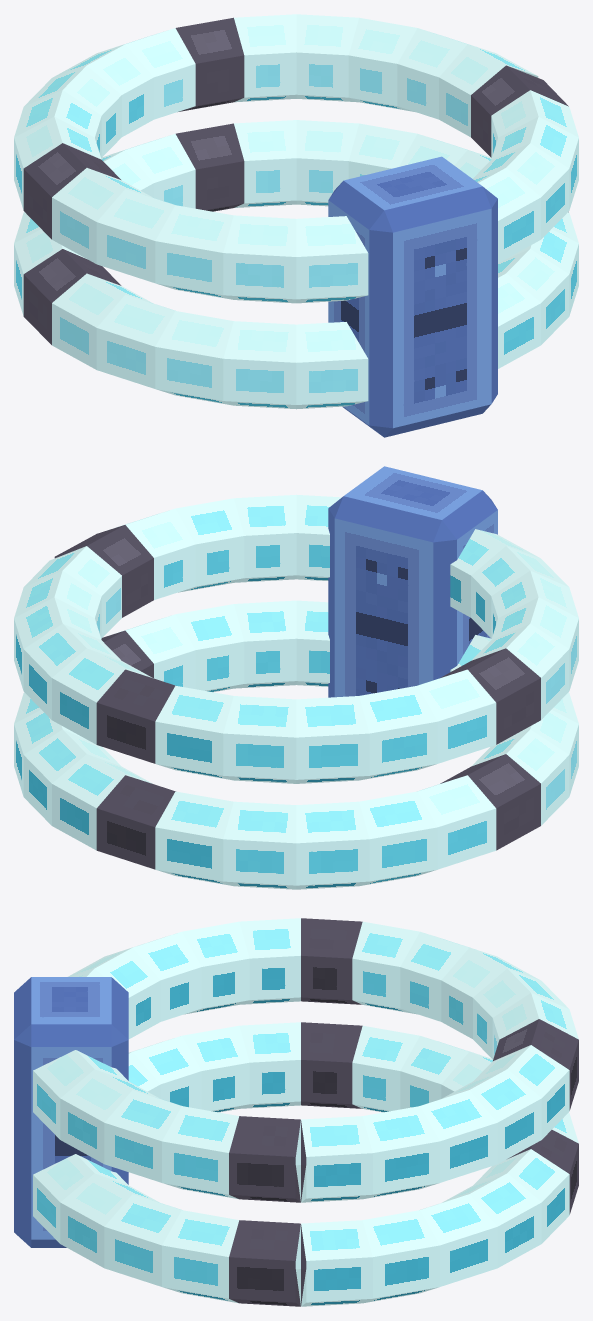
File: wireless.glb
3 renders of one model, top to bottom at view 1: azimuth 30°, elevation 25°; view 2: azimuth 150°, elevation 25°; view 3: azimuth 270°, elevation 25°, orthographic.
Parts seen in each view (by area): view 1: wireless_ring, wireless_body; view 2: wireless_ring, wireless_body; view 3: wireless_ring, wireless_body.
Part boxes in pixels (x1=…): wireless_ring: x1=14, y1=14, x2=578, y2=409; wireless_body: x1=328, y1=156, x2=497, y2=437; wireless_ring: x1=14, y1=494, x2=578, y2=889; wireless_body: x1=328, y1=466, x2=497, y2=697; wireless_ring: x1=33, y1=918, x2=578, y2=1306; wireless_body: x1=14, y1=977, x2=128, y2=1247.
Bounding box in the file's own units: 0.968 × 0.43 × 0.9843.
Materials: 1 (1 with a texture image).
